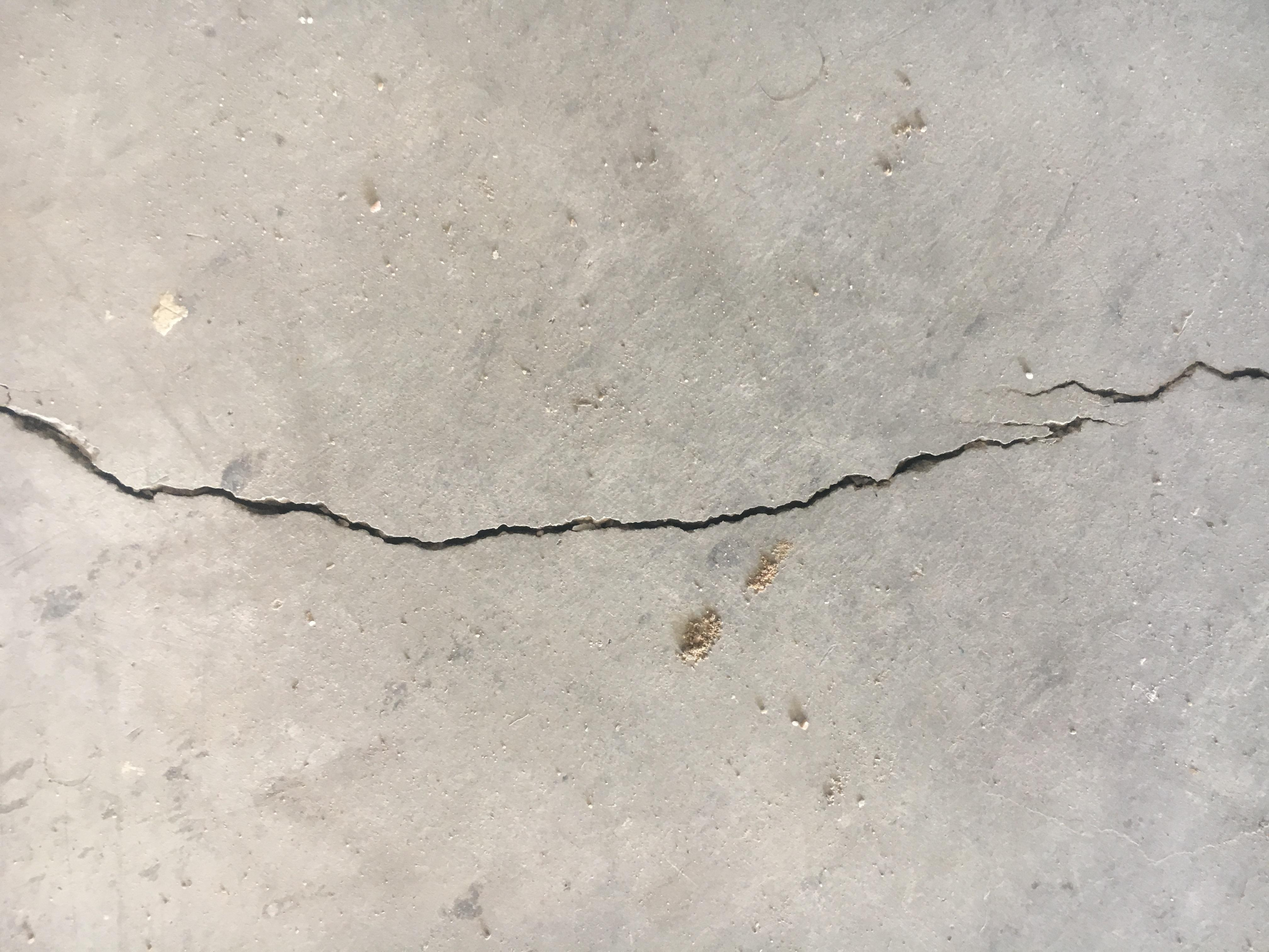Horizontal Settlement Crack: (3, 358, 1266, 553)
